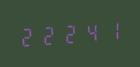four: (81, 19, 101, 44)
one: (102, 17, 122, 43)
two: (18, 23, 38, 49), (60, 20, 80, 46), (39, 22, 59, 47)
